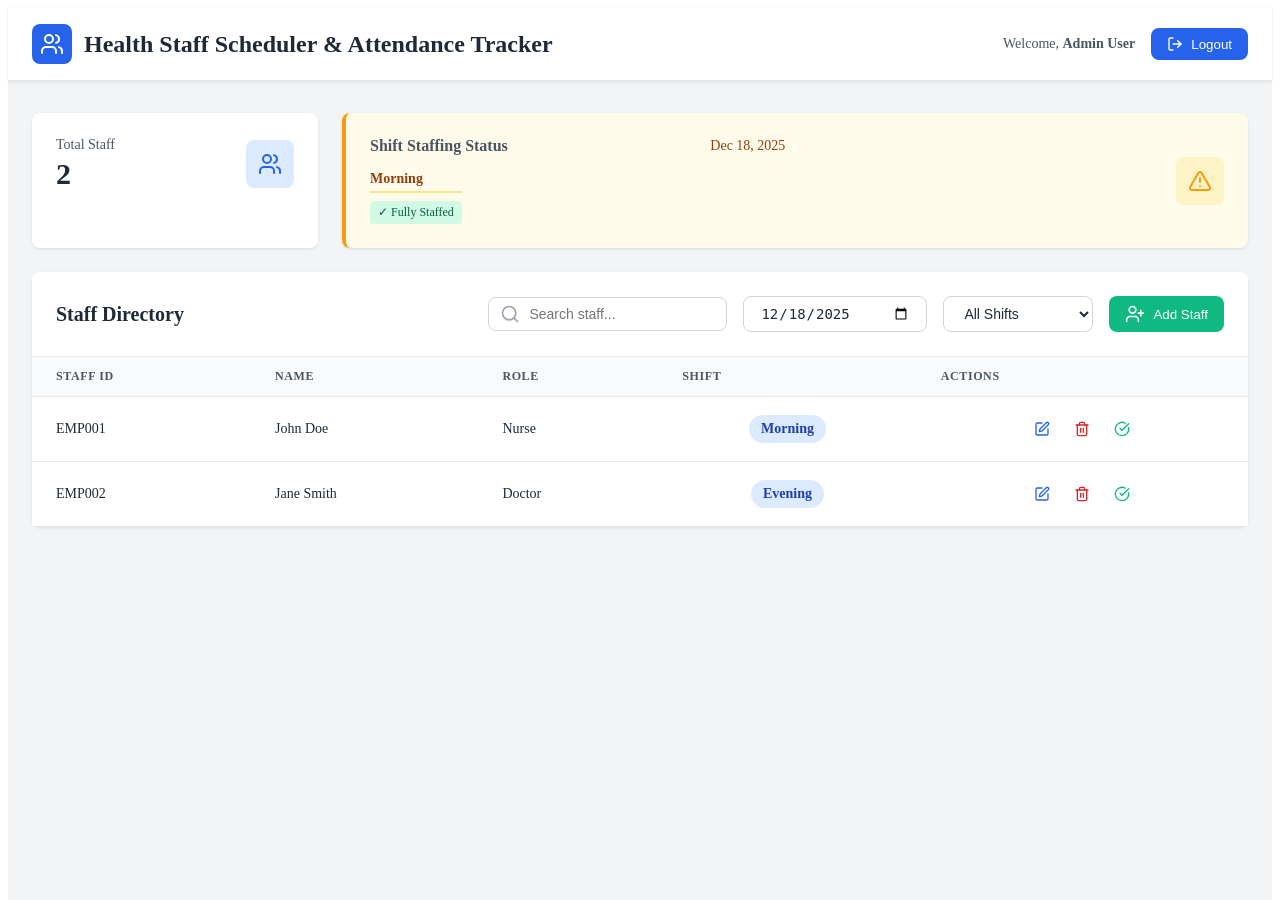
Test case: Dashboard Component › opens edit modal when edit button is clicked
The width and height of the screenshot is (1280, 900).
Expected: the text "John Doe" is shown, [275, 421, 328, 437]
Click the button named "edit" in the row of "EMP001" at (1042, 429), box [1026, 413, 1058, 445]
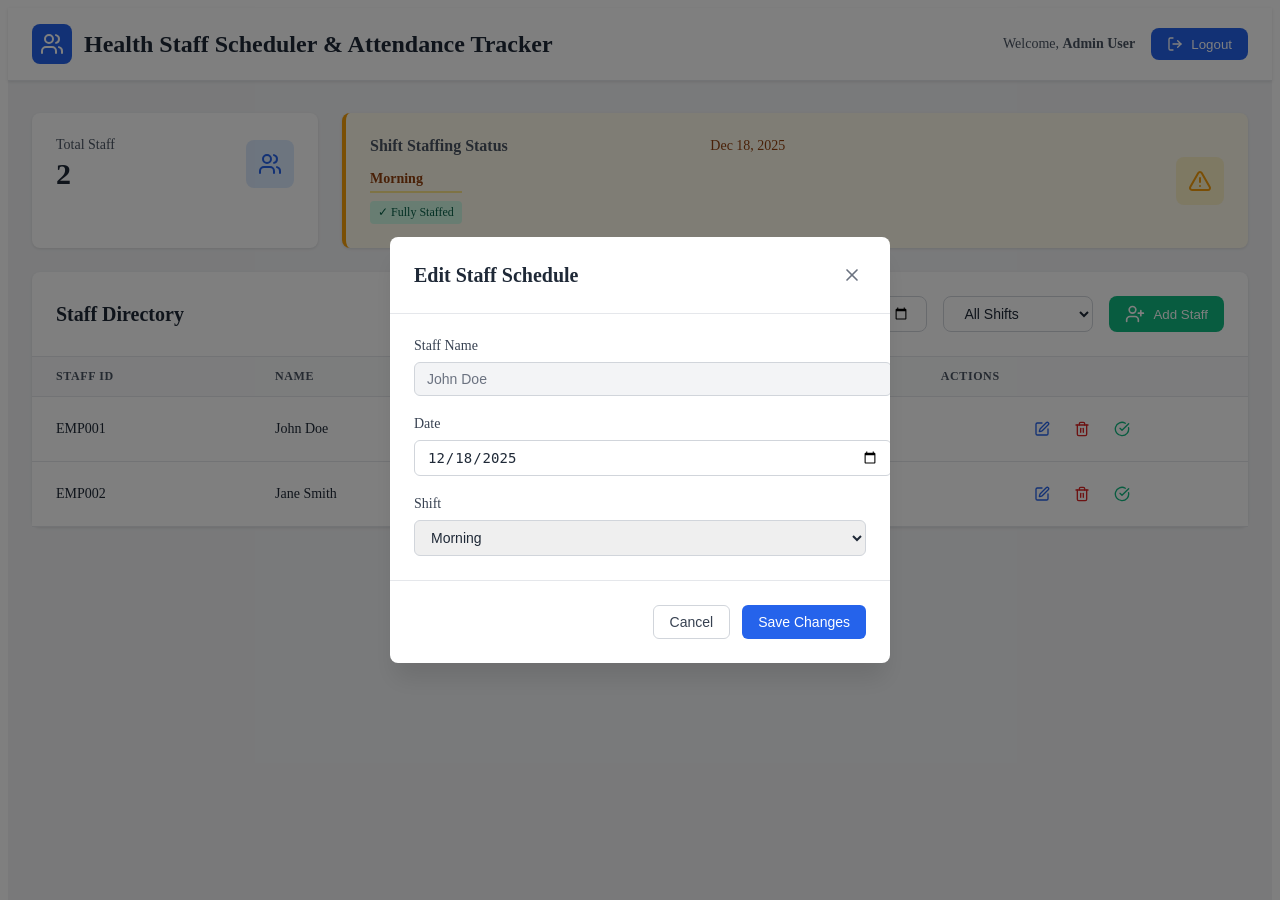
Now the heading "Edit Staff Schedule" is shown, box [414, 264, 578, 286]
